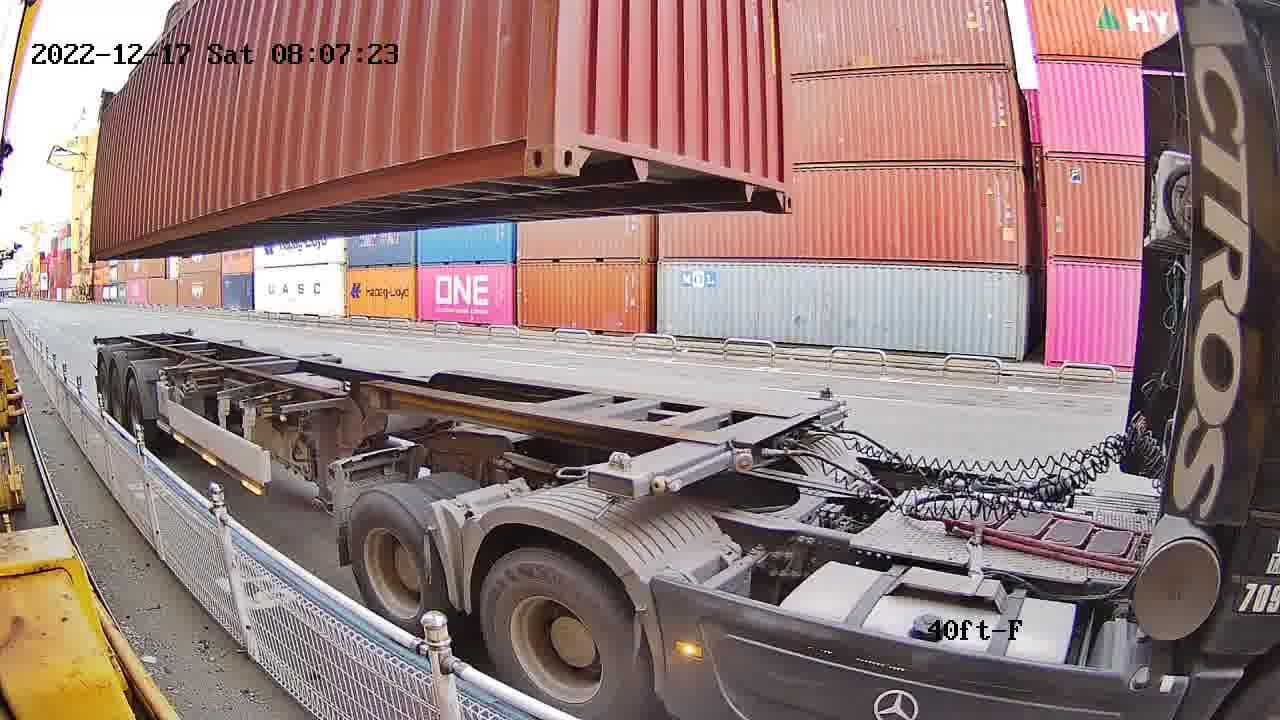Chassis: (589, 394, 849, 492)
Cone: (586, 445, 644, 525), (810, 380, 840, 420)
Hole_L: (554, 106, 618, 180)
Hole_R: (499, 109, 553, 179), (752, 146, 793, 212)
Tire: (481, 557, 646, 712), (347, 492, 440, 623)
